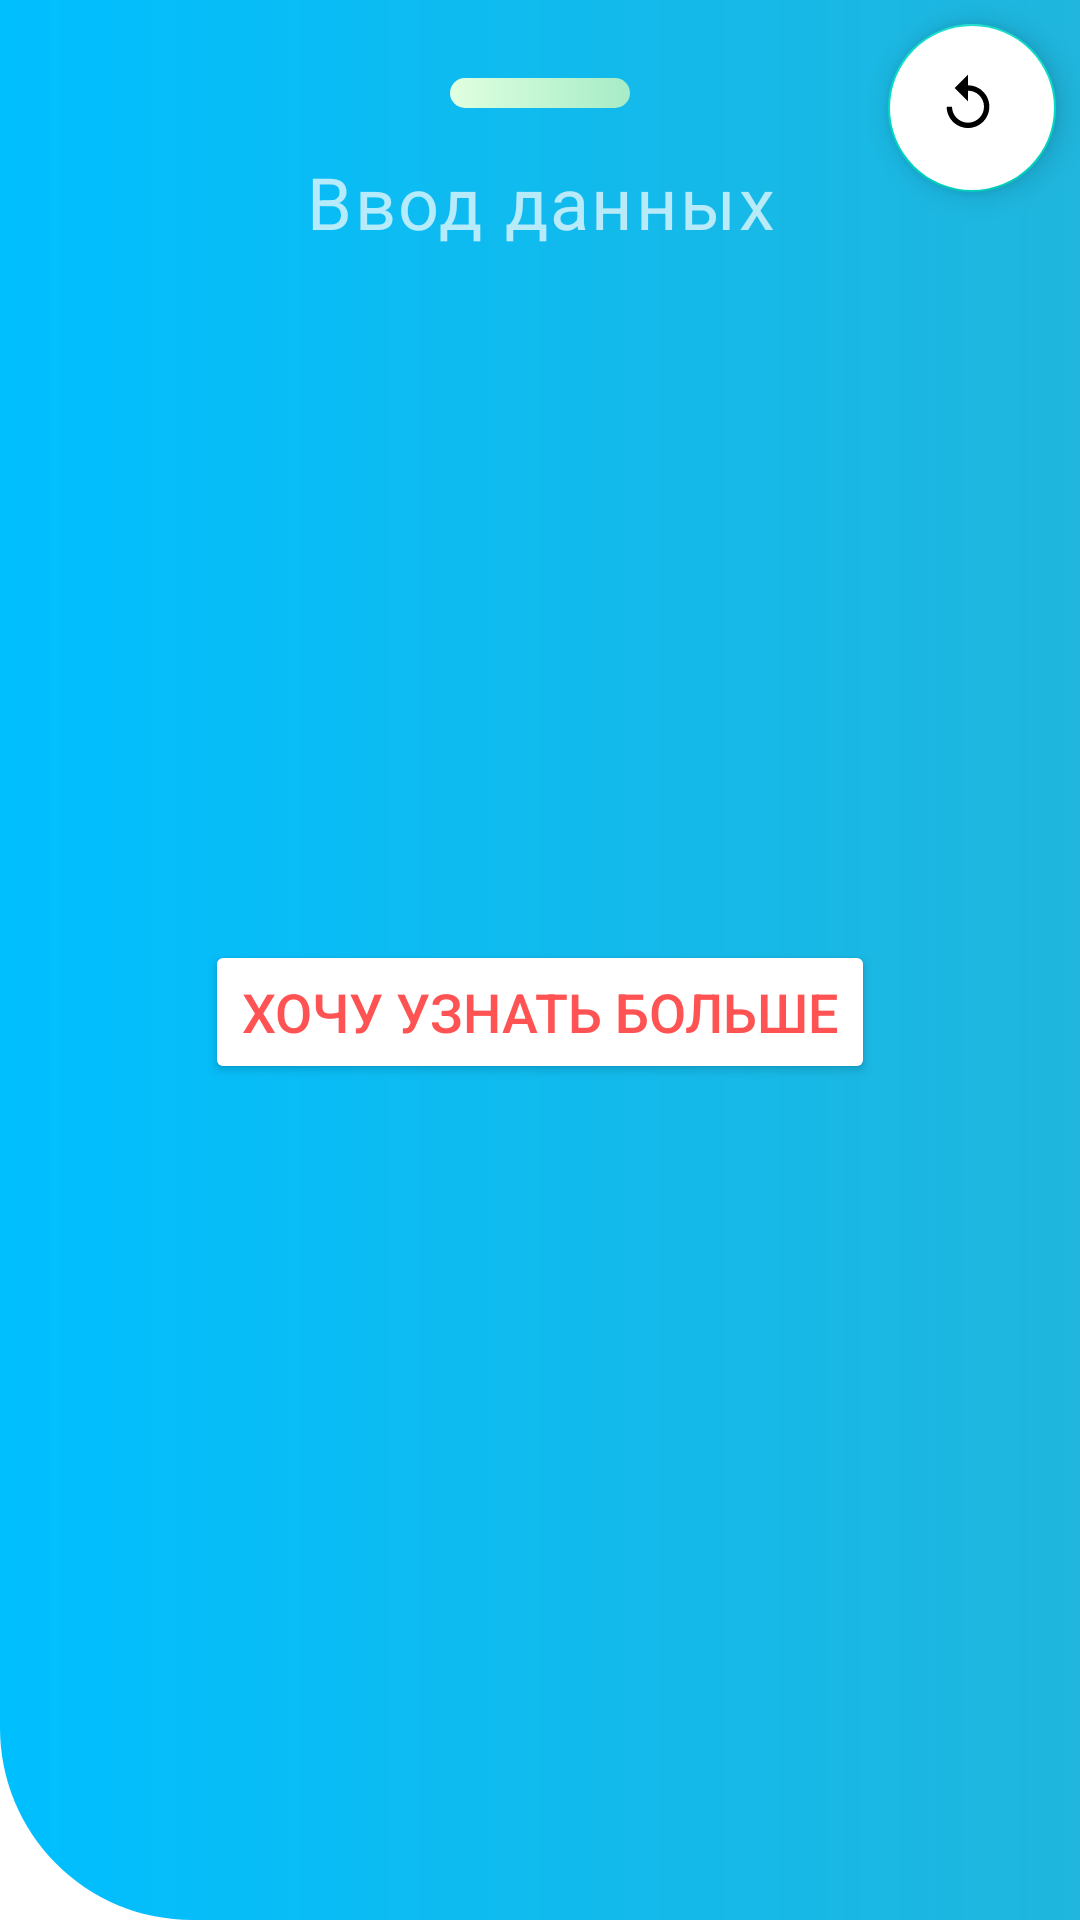

Icons on this 1080 × 1920 Android screen, each with its box as (x1, y1, x2, y2):
replay: (888, 24, 1056, 192)
